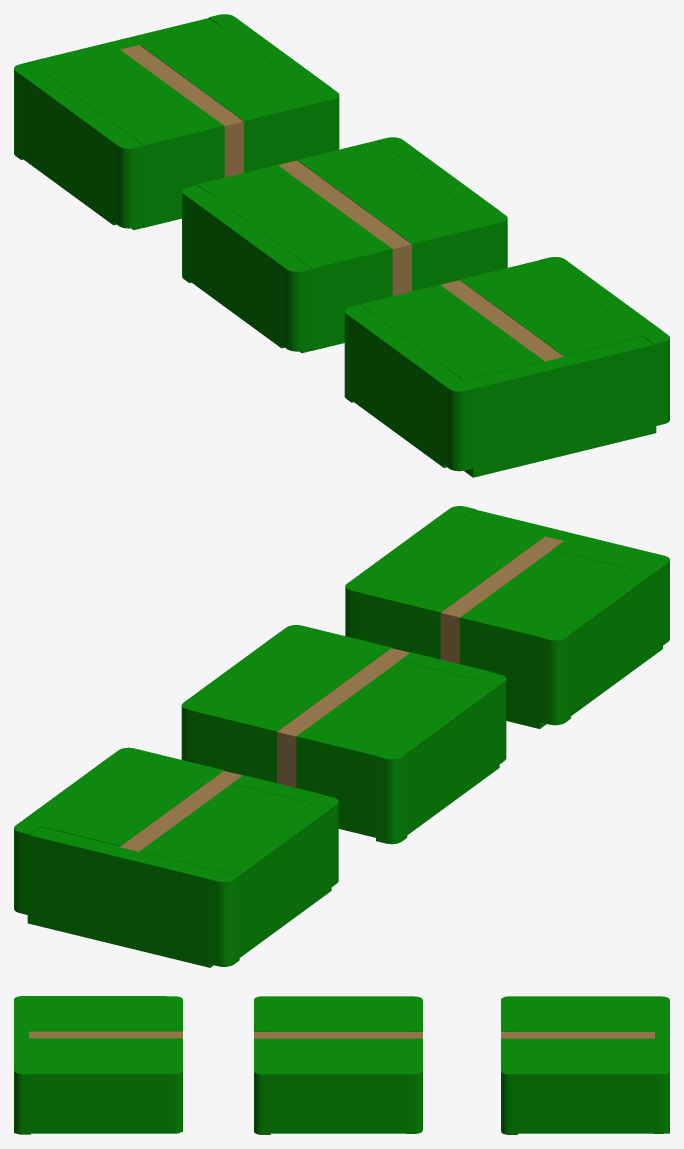
The model's file is Stage01.fbx.
The picture shows the model from 3 angles, top to bottom: view 1: azimuth 30°, elevation 25°; view 2: azimuth 150°, elevation 25°; view 3: azimuth 270°, elevation 25°; orthographic projection. The views are drawn at different scales.
Visible parts, largest first — view 1: pasted__pasted__pasted__pasted__pasted__pasted__Tile_Center3 (×5), pasted__pasted__pasted__pasted__pasted__pasted__pasted__Tile (×5), pasted__pasted__Tile_Center5, pasted__pasted__pasted__pasted__pasted__Tile_Center32 (×2), pasted__pasted__pasted__pasted__pasted__pasted__pasted__past (×5), pasted__pasted__pasted__pasted__pasted__Tile_Center35, pasted__pasted__pasted__pasted__Tile_Center32, pasted__pasted__pasted__pasted__Tile_Corner_Foundation10 (×2), pasted__pasted__pasted__pasted__Tile_Center25 (×2), pasted__pasted__pasted__pasted__pasted__Tile_Center38, pasted__pasted__pasted__Tile_Center25, pasted__pasted__pasted__Tile_Corner_Foundation10 (+5 smaller); view 2: pasted__pasted__pasted__pasted__pasted__pasted__Tile_Center3 (×5), pasted__pasted__pasted__pasted__pasted__pasted__pasted__Tile (×5), pasted__pasted__pasted__pasted__pasted__Tile_Center32 (×2), pasted__Tile_Center5, pasted__pasted__pasted__pasted__pasted__pasted__pasted__past (×5), pasted__pasted__pasted__pasted__pasted__Tile_Center35, pasted__pasted__pasted__pasted__Tile_Center32, pasted__pasted__pasted__pasted__Tile_Center25 (×2), pasted__pasted__Tile_Corner_Foundation5 (×2), pasted__pasted__pasted__Tile_Corner_Foundation10 (×3), pasted__Tile_Corner_Foundation5, pasted__pasted__pasted__Tile_Center25 (+4 smaller); view 3: pasted__pasted__pasted__pasted__pasted__pasted__pasted__past (×5), pasted__pasted__pasted__pasted__pasted__pasted__pasted__Tile (×5), pasted__pasted__pasted__pasted__pasted__Tile_Center32 (×2), pasted__pasted__pasted__pasted__pasted__pasted__Tile_Center3 (×5), pasted__pasted__pasted__pasted__Tile_Center32, pasted__pasted__pasted__pasted__Tile_Center25 (×2), pasted__pasted__pasted__pasted__pasted__Tile_Corner_Foundati (×2), pasted__pasted__pasted__Tile_Corner_Foundation10 (×2), pasted__pasted__pasted__pasted__Tile_Corner_Foundation9, pasted__pasted__Tile_Corner_Foundation10, pasted__pasted__pasted__pasted__pasted__Tile_Center35, pasted__Tile_Center5 (+3 smaller).
Boxes of the visible parts, x1,y1,x2,y2 form: pasted__pasted__pasted__pasted__pasted__pasted__Tile_Center3 (×5): (40,50,643,467); pasted__pasted__pasted__pasted__pasted__pasted__pasted__Tile (×5): (132,21,531,371); pasted__pasted__Tile_Center5: (464,337,656,477); pasted__pasted__pasted__pasted__pasted__Tile_Center32 (×2): (308,149,631,347); pasted__pasted__pasted__pasted__pasted__pasted__pasted__past (×5): (197,144,662,380); pasted__pasted__pasted__pasted__pasted__Tile_Center35: (21,70,132,225); pasted__pasted__pasted__pasted__Tile_Center32: (140,26,311,112); pasted__pasted__pasted__pasted__Tile_Corner_Foundation10 (×2): (281,260,474,471); pasted__pasted__pasted__pasted__Tile_Center25 (×2): (278,160,564,361); pasted__pasted__pasted__pasted__pasted__Tile_Center38: (232,93,323,172); pasted__pasted__pasted__Tile_Center25: (120,45,243,177); pasted__pasted__pasted__Tile_Corner_Foundation10: (113,137,144,228); pasted__pasted__pasted__pasted__pasted__pasted__Tile_Center3 (×5): (139,517,662,870); pasted__pasted__pasted__pasted__pasted__pasted__pasted__Tile (×5): (22,550,631,825); pasted__pasted__pasted__pasted__pasted__Tile_Center32 (×2): (209,525,532,722); pasted__Tile_Center5: (27,827,221,967); pasted__pasted__pasted__pasted__pasted__pasted__pasted__past (×5): (189,512,643,837); pasted__pasted__pasted__pasted__pasted__Tile_Center35: (220,803,331,957); pasted__pasted__pasted__pasted__Tile_Center32: (41,759,212,846); pasted__pasted__pasted__pasted__Tile_Center25 (×2): (277,536,564,787); pasted__pasted__Tile_Corner_Foundation5 (×2): (376,629,570,844); pasted__pasted__pasted__Tile_Corner_Foundation10 (×3): (181,579,371,886); pasted__Tile_Corner_Foundation5: (208,871,239,966); pasted__pasted__pasted__Tile_Center25: (119,771,242,851); pasted__pasted__pasted__pasted__pasted__pasted__pasted__past (×5): (30,1002,422,1133); pasted__pasted__pasted__pasted__pasted__pasted__pasted__Tile (×5): (47,1003,652,1133); pasted__pasted__pasted__pasted__pasted__Tile_Center32 (×2): (47,1038,406,1131); pasted__pasted__pasted__pasted__pasted__pasted__Tile_Center3 (×5): (30,996,654,1067); pasted__pasted__pasted__pasted__Tile_Center32: (517,1038,653,1067); pasted__pasted__pasted__pasted__Tile_Center25 (×2): (29,1031,422,1038); pasted__pasted__pasted__pasted__pasted__Tile_Corner_Foundati (×2): (14,1067,270,1134); pasted__pasted__pasted__Tile_Corner_Foundation10 (×2): (166,1067,422,1133); pasted__pasted__pasted__pasted__Tile_Corner_Foundation9: (501,1067,517,1134); pasted__pasted__Tile_Corner_Foundation10: (653,1067,669,1133); pasted__pasted__pasted__pasted__pasted__Tile_Center35: (518,996,653,1003); pasted__Tile_Center5: (653,1002,669,1133).
Size of the model in its own units: 66.24 by 26.74 by 233.
